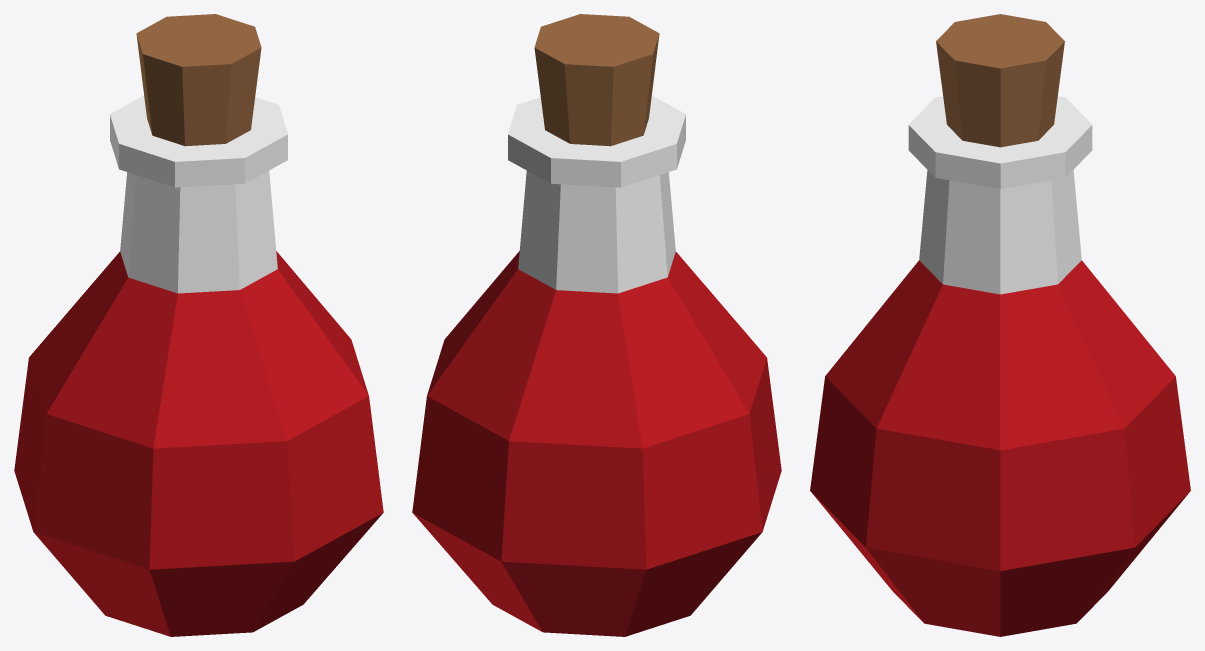
Rendered from LifePot.fbx.
3 views of the same model, side by side, from view 1: azimuth 30°, elevation 25°; view 2: azimuth 150°, elevation 25°; view 3: azimuth 270°, elevation 25° (orthographic).
Visible parts, largest first — view 1: LifePot; view 2: LifePot; view 3: LifePot.
Part boxes in pixels (box(x1,y1,x2,y2)): LifePot: box(14, 14, 383, 636); LifePot: box(412, 14, 781, 636); LifePot: box(810, 14, 1190, 636).
Size of the model in its own units: 0.1421 by 0.2265 by 0.1421.
